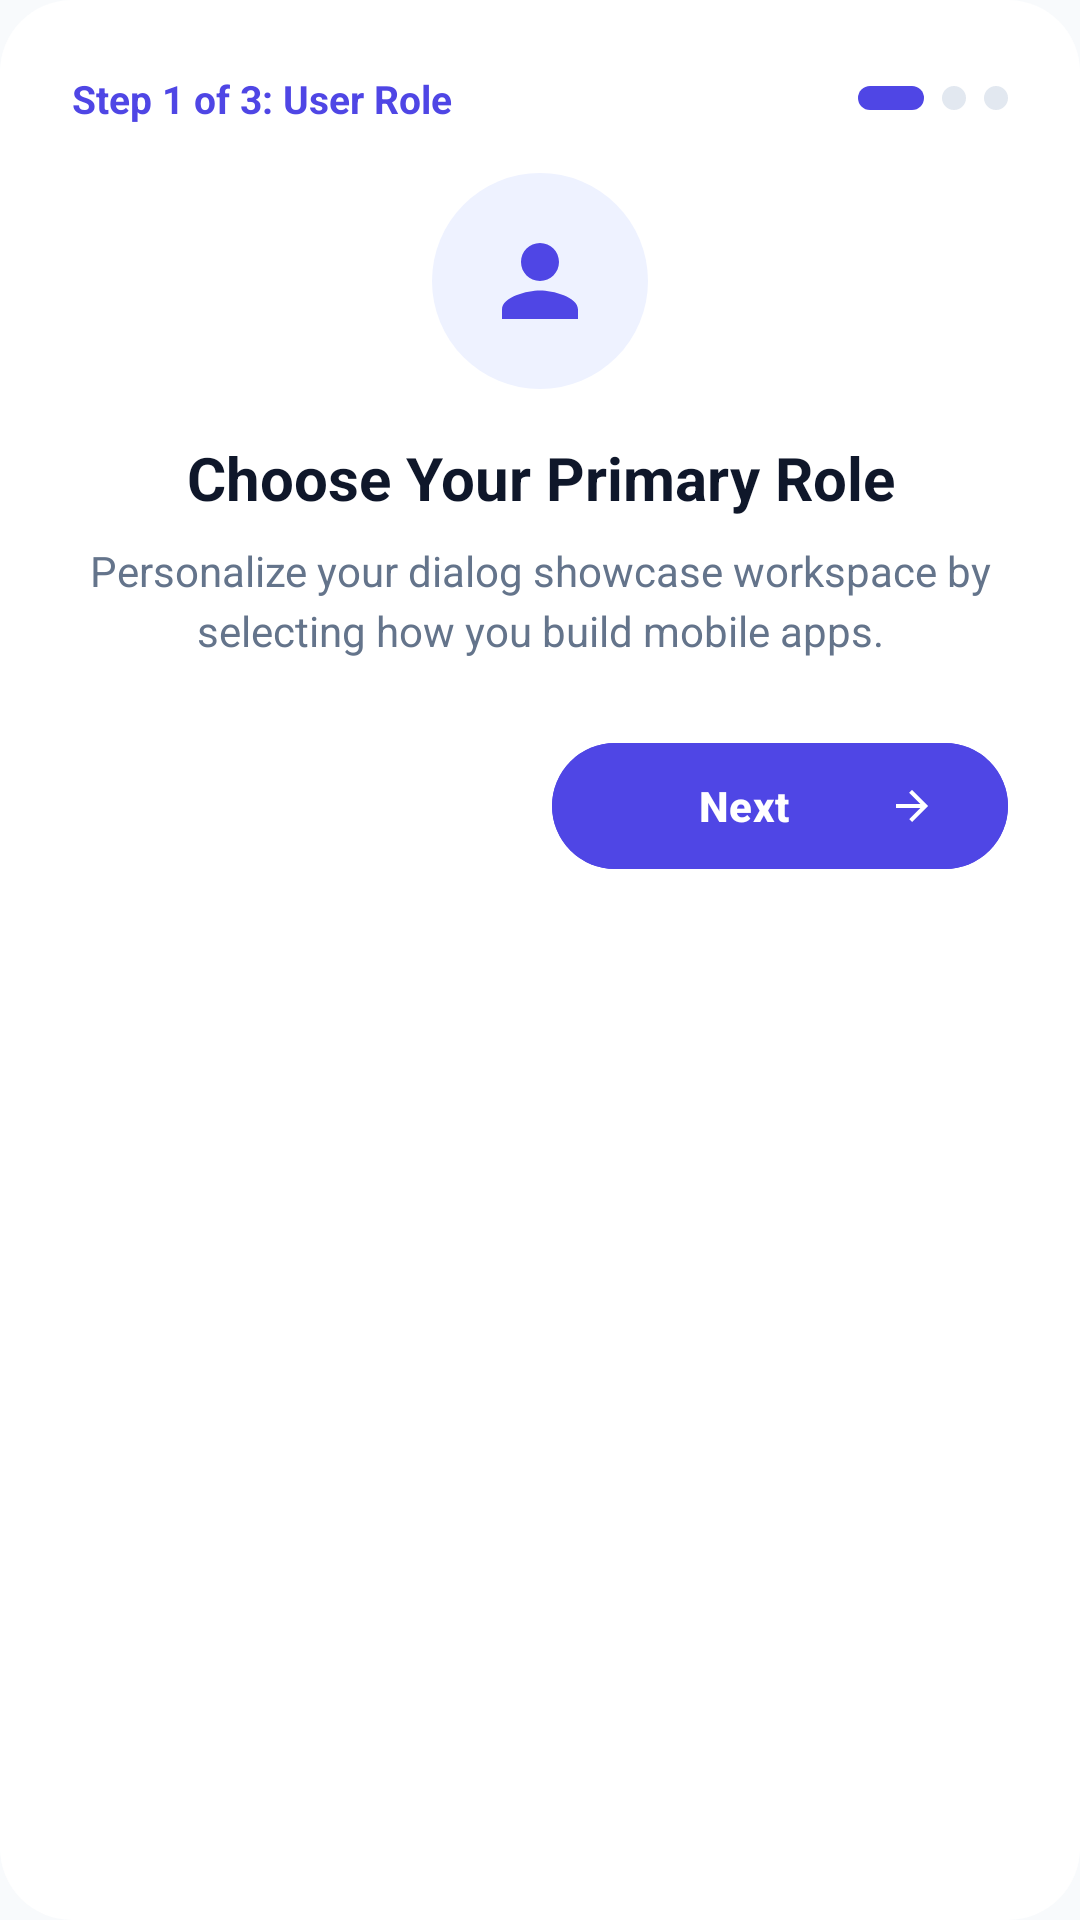

Icon bounding boxes for this 1080x1920 phone screenshot, format (x1, y1, x2, y2):
Profile Icon: (502, 243, 578, 319)
